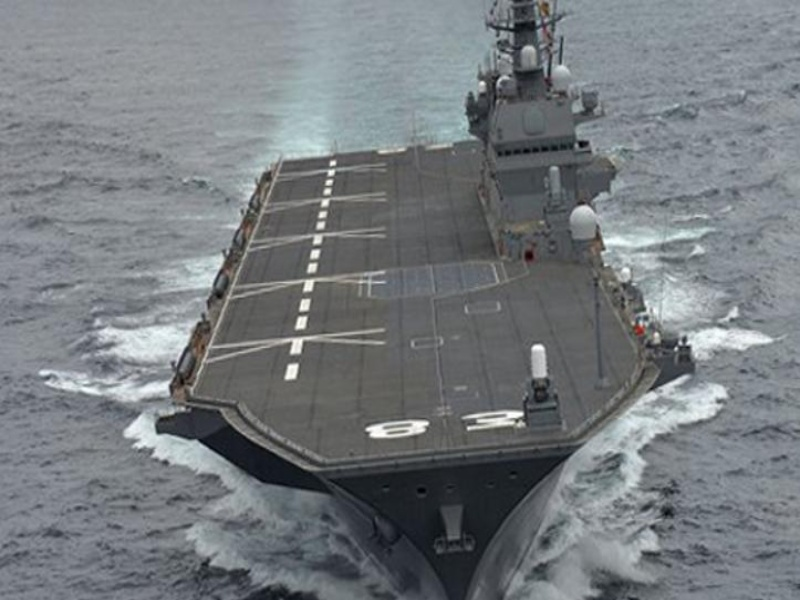carrier: (172, 46, 697, 589)
